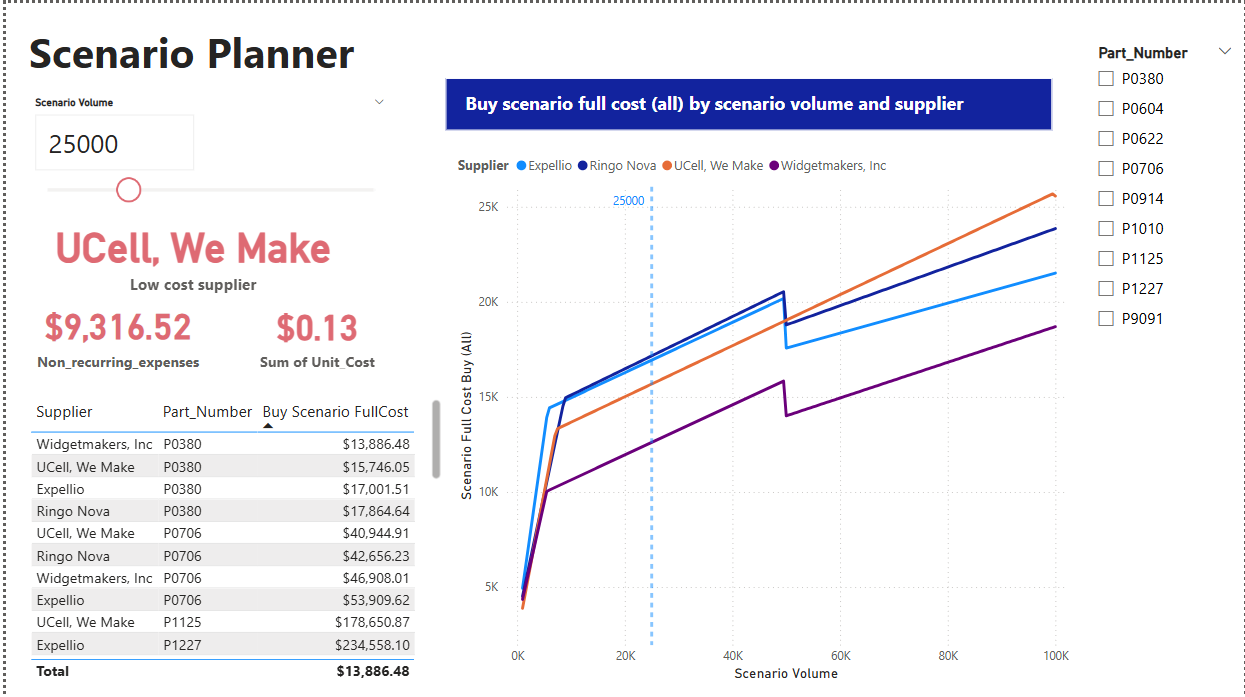

What the dashboard file says about the page in this screenshot:
{"tool":"powerbi","page":{"name":"Scenario Analysis Report","canvas":[1280,720],"ordinal":1},"visuals":[{"type":"shape","box":[453.6,78,627.3,54.3],"z":0,"group":"g1"},{"type":"slicer","fields":{"Values":["Scenario Volume.Scenario Volume"]},"box":[17.7,92.1,386.3,129.4],"z":0},{"type":"textbox","box":[468.9,85.8,590,50.7],"z":1000,"group":"g1"},{"type":"tableEx","fields":{"Values":["Quotes.Supplier","Quotes.Part_Number","Scenario Volume.Scenario_FullCost"]},"box":[19.5,404,434.1,301.2],"z":1000},{"type":"textbox","box":[18.9,15.1,580.2,71.8],"z":2000},{"type":"card","fields":{"Values":["Sum(Quotes.Non_recurring_expenses)"]},"box":[18.2,293.8,193.8,96.9],"z":3000},{"type":"slicer","fields":{"Values":["Quotes.Part_Number"]},"box":[1116.4,37.2,163,366.8],"z":4000},{"type":"lineChart","fields":{"Series":["Quotes.Supplier"],"Y":["Scenario Volume (All).Scenario Full Cost (All)"],"Category":["Scenario Volume (All).Scenario Volume"]},"box":[462.5,147.1,641.5,558.2],"z":5000},{"type":"card","fields":{"Values":["Min(Quotes.Supplier)"]},"box":[0,208.3,386.7,101.7],"z":6000},{"type":"card","fields":{"Values":["Sum(Quotes.Unit_Cost)"]},"box":[225,301.7,193.3,80],"z":7000},{"type":"group","id":"g1","title":"Group 1","box":[453.6,78,627.3,58.5],"z":8000}]}

Visuals, with their boxes in screenshot pixels (x1, y1, x2, y2), scaled from the page's 1280x720 canvas onto the 1245x697 screenshot:
shape: left=441, top=76, right=1051, bottom=128
slicer - Scenario Volume.Scenario Volume: left=17, top=89, right=393, bottom=214
textbox: left=456, top=83, right=1030, bottom=132
tableEx - Quotes.Supplier x Quotes.Part_Number: left=19, top=391, right=441, bottom=683
textbox: left=18, top=15, right=583, bottom=84
card - Sum(Quotes.Non_recurring_expenses): left=18, top=284, right=206, bottom=378
slicer - Quotes.Part_Number: left=1086, top=36, right=1244, bottom=391
lineChart - Quotes.Supplier x Scenario Volume (All).Scenario Full Cost (All): left=450, top=142, right=1074, bottom=683
card - Min(Quotes.Supplier): left=0, top=202, right=376, bottom=300
card - Sum(Quotes.Unit_Cost): left=219, top=292, right=407, bottom=370
"Group 1" group: left=441, top=76, right=1051, bottom=132
